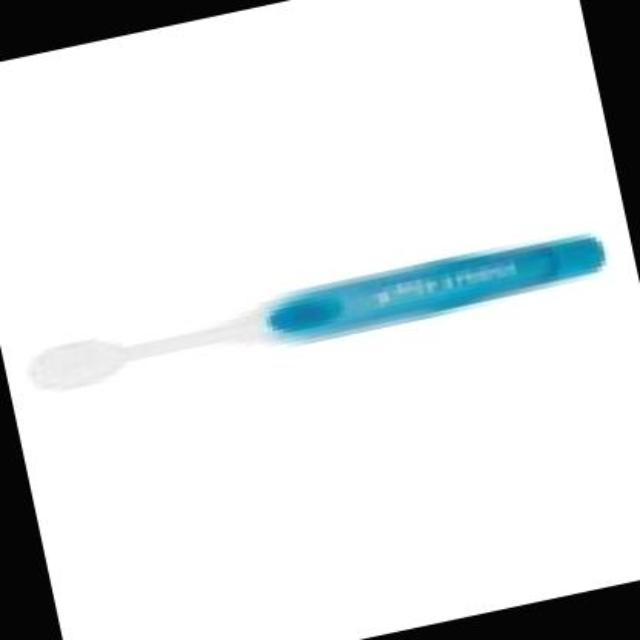toothbrush: (11, 197, 592, 421)
